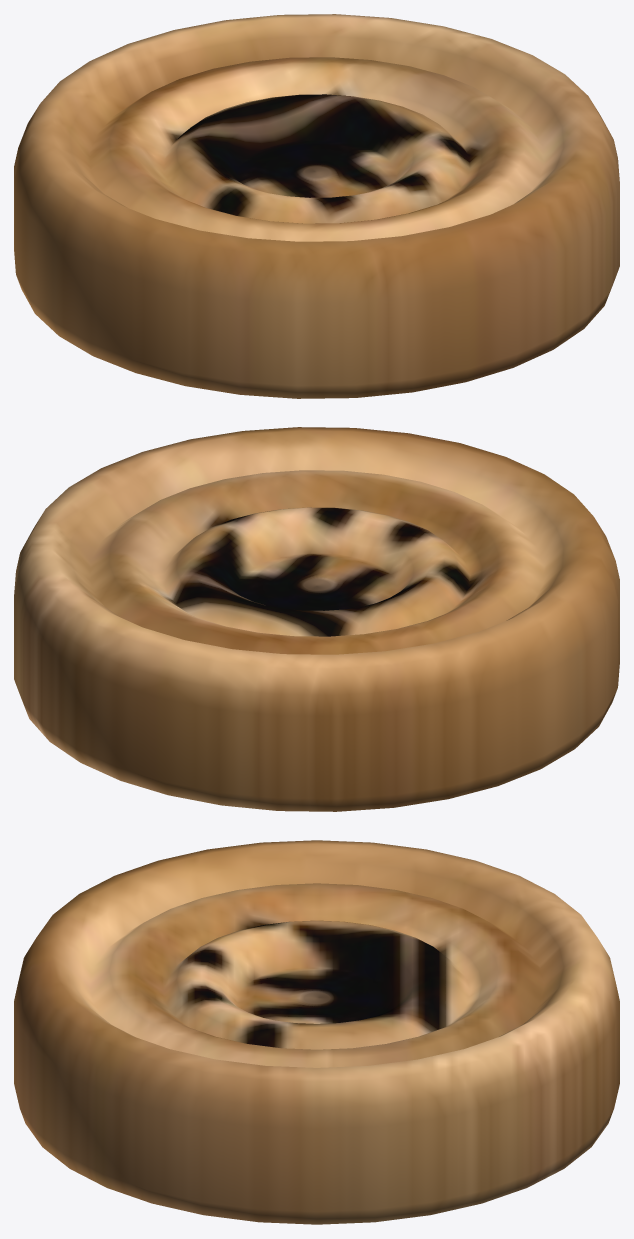
File: Checker.fbx
3 renders of one model, top to bottom at view 1: azimuth 30°, elevation 25°; view 2: azimuth 150°, elevation 25°; view 3: azimuth 270°, elevation 25°, orthographic.
Visible parts, largest first — view 1: shashka; view 2: shashka; view 3: shashka.
Boxes of the visible parts, left/top/right/bottom form: shashka: left=14, top=14, right=619, bottom=398; shashka: left=14, top=427, right=619, bottom=811; shashka: left=14, top=840, right=619, bottom=1224.
Bounding box in the file's own units: 4 × 1.08 × 4.
